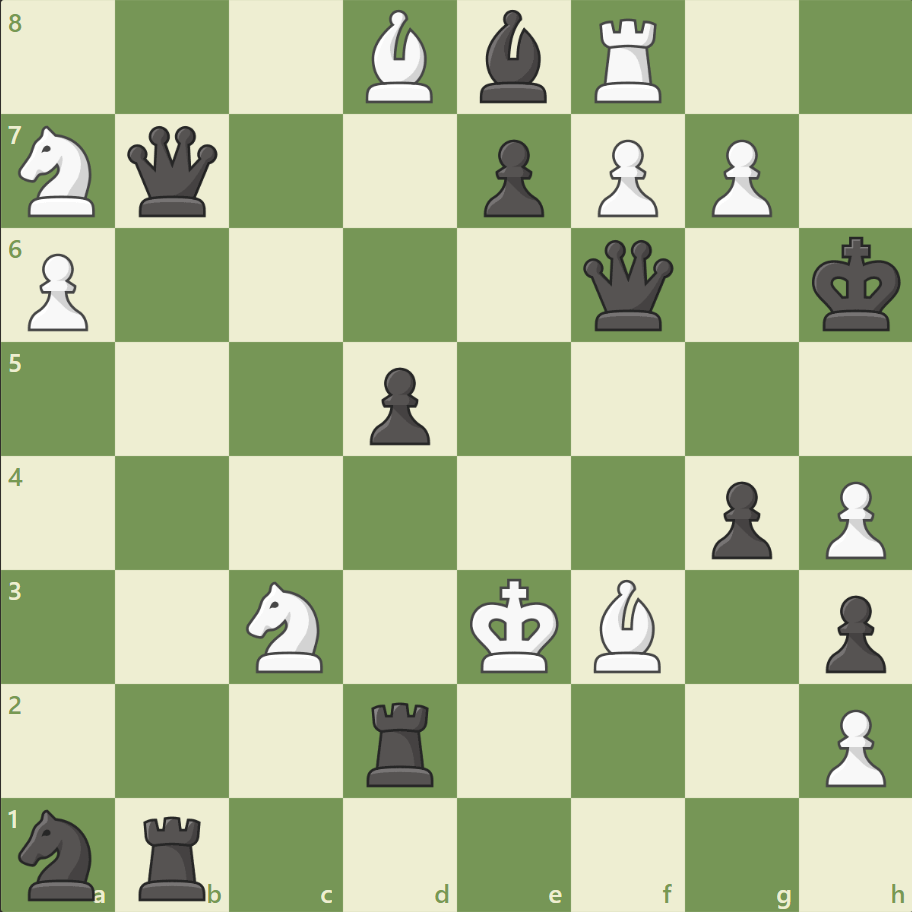B: (358, 6, 442, 109), (585, 574, 669, 676)
K: (465, 571, 565, 679)
N: (11, 121, 108, 223), (238, 575, 335, 677)
P: (701, 132, 776, 223), (20, 246, 95, 337), (588, 132, 662, 223), (815, 473, 889, 564), (815, 700, 889, 791)
R: (587, 12, 670, 109)
b: (471, 6, 555, 109)
k: (806, 231, 906, 339)
n: (11, 802, 108, 904)
p: (474, 132, 549, 223), (701, 473, 776, 564), (361, 359, 435, 450), (815, 586, 889, 677)
q: (124, 122, 223, 222), (578, 236, 677, 335)
r: (133, 806, 215, 904), (360, 693, 442, 790)
